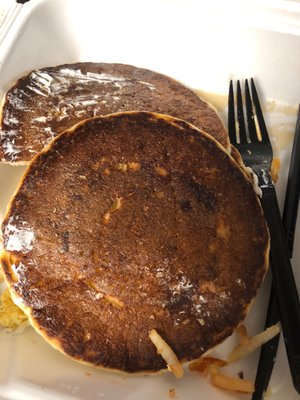burger: (226, 76, 296, 364)
